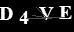4: (18, 10, 30, 25)
D: (1, 5, 14, 21)
E: (58, 5, 73, 20)
V: (38, 6, 55, 21)
